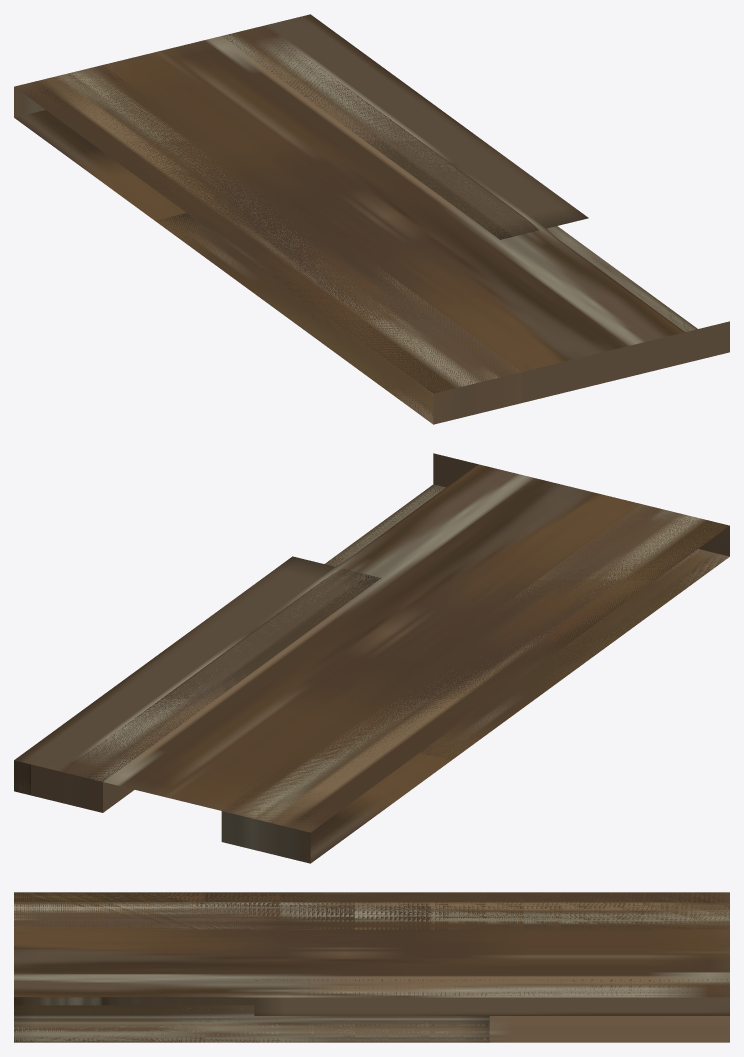
The model's file is section-6.obj.
The picture shows the model from 3 angles, top to bottom: view 1: azimuth 30°, elevation 25°; view 2: azimuth 150°, elevation 25°; view 3: azimuth 270°, elevation 25°; orthographic projection. The views are drawn at different scales.
Bounding box in the file's own units: 1 × 0.1 × 2.45.
